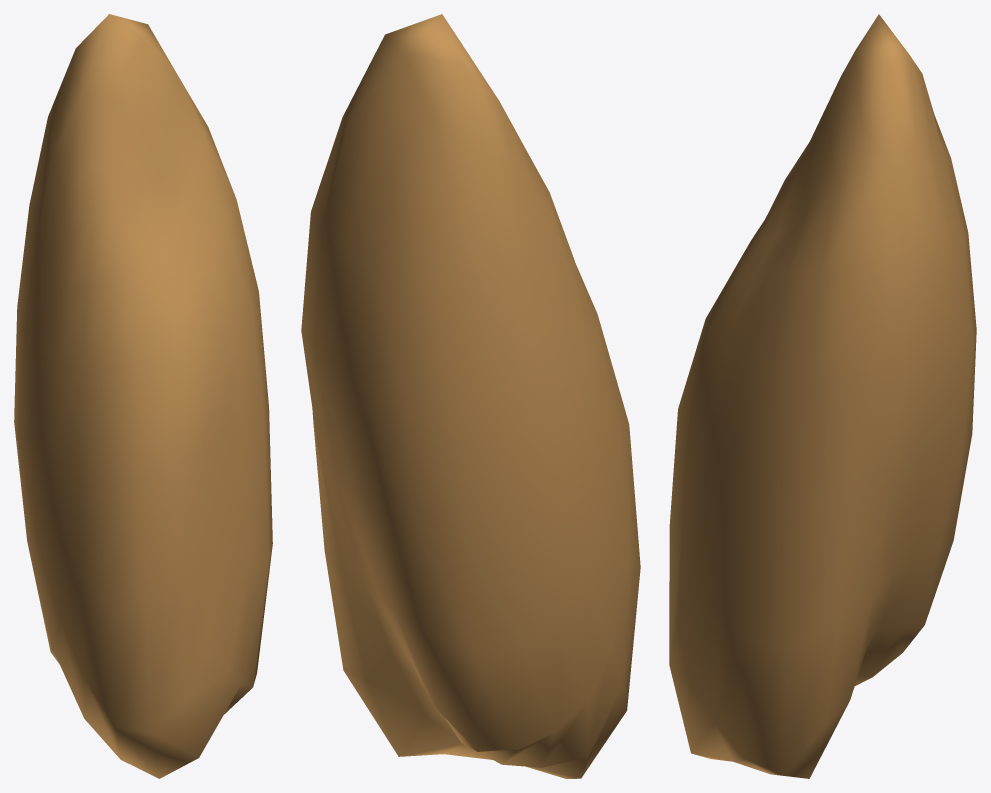
Rendered from coxa_T1_right_leg.obj.
3 renders of one model, left to right at view 1: azimuth 30°, elevation 25°; view 2: azimuth 150°, elevation 25°; view 3: azimuth 270°, elevation 25°, orthographic. The views are drawn at different scales.
Bounding box in the file's own units: 0.0148 × 0.044 × 0.0161.
